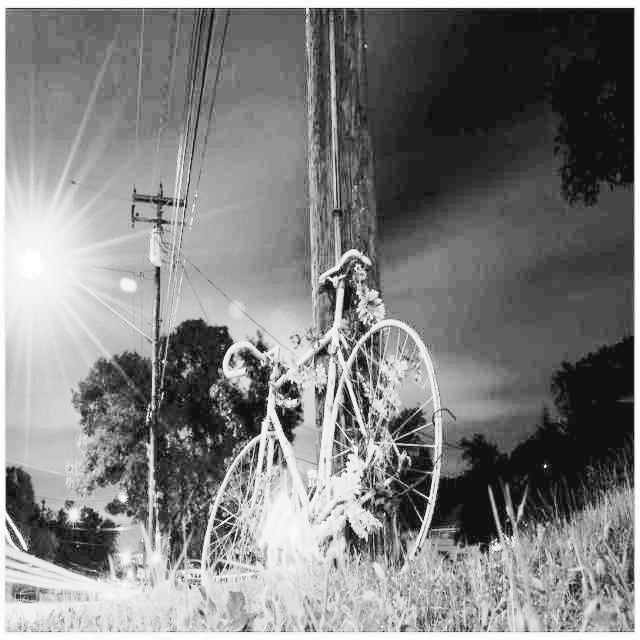Bicycle: (187, 240, 445, 596)
Car: (182, 554, 211, 590)
